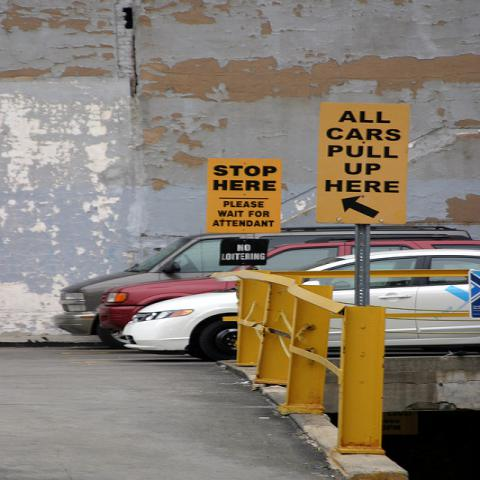car: (54, 226, 476, 336), (111, 251, 479, 361), (93, 240, 479, 334)
